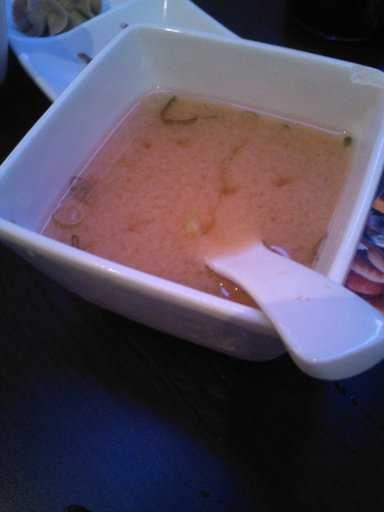soup: (34, 14, 366, 338)
